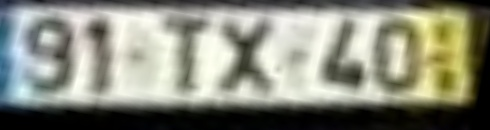0: (374, 16, 428, 99)
1: (81, 15, 117, 99)
4: (319, 17, 371, 96)
9: (17, 16, 80, 101)
T: (159, 16, 217, 99)
X: (217, 17, 277, 100)
